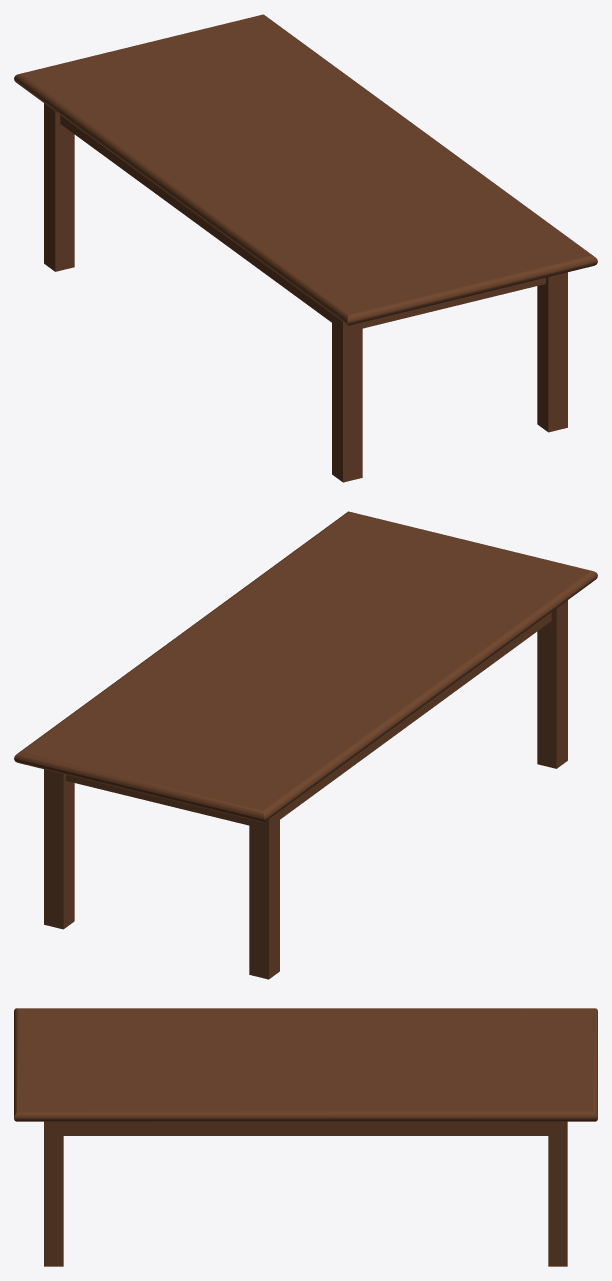
The model's file is GrandeTable_37.fbx.
The picture shows the model from 3 angles, top to bottom: view 1: azimuth 30°, elevation 25°; view 2: azimuth 150°, elevation 25°; view 3: azimuth 270°, elevation 25°; orthographic projection. The views are drawn at different scales.
Visible parts, largest first — view 1: pCube80, pCube82, pCube81, pCube83; view 2: pCube80, pCube83, pCube84, pCube82; view 3: pCube80, pCube84, pCube81.
Boxes of the visible parts, <box> form: pCube80: <box>14,14,597,328</box>; pCube82: <box>332,314,362,482</box>; pCube81: <box>537,272,567,432</box>; pCube83: <box>44,103,74,271</box>; pCube80: <box>14,511,597,825</box>; pCube83: <box>249,811,279,979</box>; pCube84: <box>44,769,74,929</box>; pCube82: <box>537,600,567,768</box>; pCube80: <box>14,1008,597,1135</box>; pCube84: <box>548,1121,567,1266</box>; pCube81: <box>44,1121,63,1266</box>.
Size of the model in its own units: 57.3 by 39.63 by 132.
